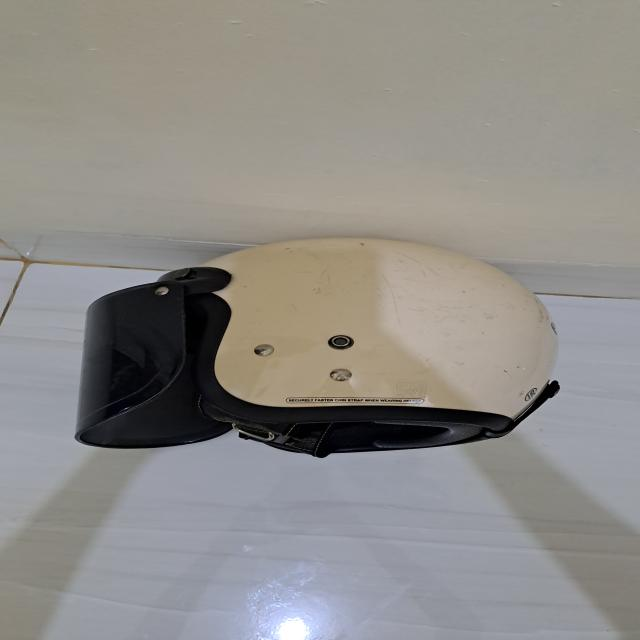Helm: (52, 229, 568, 466)
